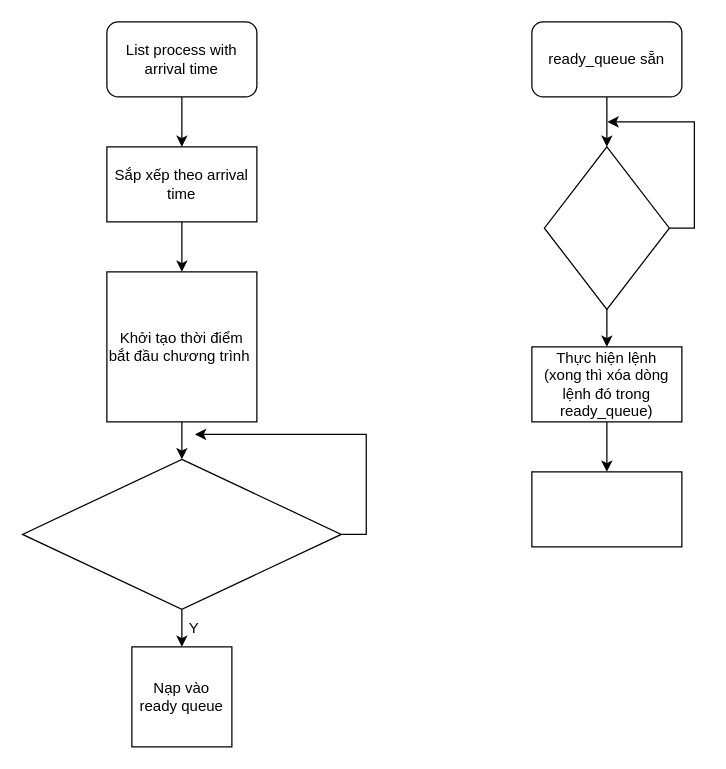
Image size: 726x769. Some labels were removed from this diagram. Each missing label, with the centre of its shape:
Kiểm tra có tiến trình hay khồng: point (606, 227)
nạp vào gantt chart: point (606, 509)
So sánh thời gian hiện tại với arrival time: point (181, 533)
